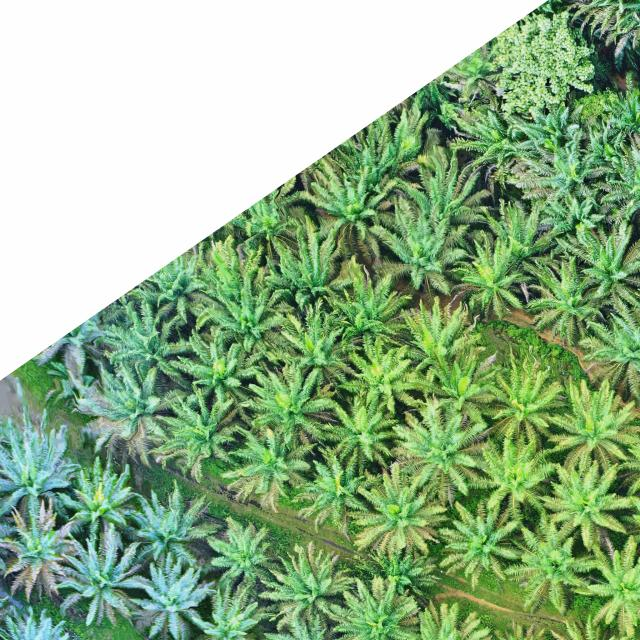0: (77, 355, 182, 466), (366, 191, 472, 300), (501, 512, 605, 622), (0, 398, 84, 532), (390, 403, 492, 507), (53, 519, 148, 626), (254, 543, 354, 640), (543, 461, 637, 563), (223, 421, 321, 517), (199, 270, 297, 364), (388, 143, 494, 229), (346, 473, 448, 562), (544, 378, 640, 472), (123, 478, 224, 566), (146, 386, 240, 480), (242, 356, 340, 445), (0, 495, 80, 603), (467, 431, 564, 518), (481, 349, 564, 447), (340, 334, 440, 414), (278, 294, 364, 386), (132, 548, 217, 640), (524, 136, 616, 220), (448, 228, 529, 323), (326, 264, 414, 351), (266, 223, 356, 308), (108, 306, 196, 392), (392, 294, 484, 376), (447, 106, 539, 188), (554, 216, 640, 302), (294, 450, 376, 540), (576, 525, 640, 640), (523, 256, 608, 342), (437, 496, 523, 580), (577, 295, 640, 404), (60, 452, 138, 538), (480, 198, 568, 274), (321, 392, 398, 476), (171, 332, 263, 401), (513, 95, 591, 169), (324, 578, 417, 640), (203, 517, 274, 597), (426, 347, 509, 412), (196, 588, 263, 640), (599, 85, 640, 156)
tree: (489, 8, 597, 108)
